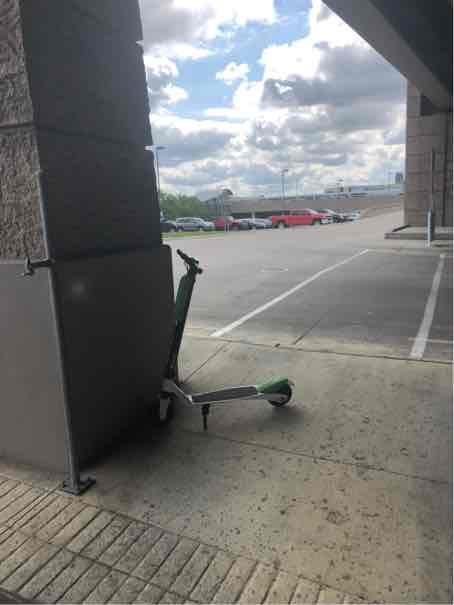scooter: (148, 219, 307, 447)
